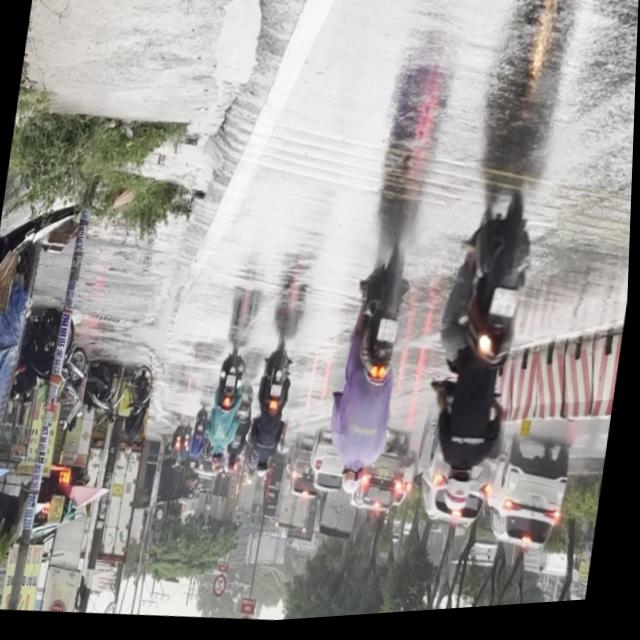helmet: (447, 474, 478, 521), (344, 470, 366, 502)
licenseplate: (416, 192, 543, 536), (324, 238, 422, 508)
nohelmet: (492, 295, 522, 327), (379, 323, 402, 350)
